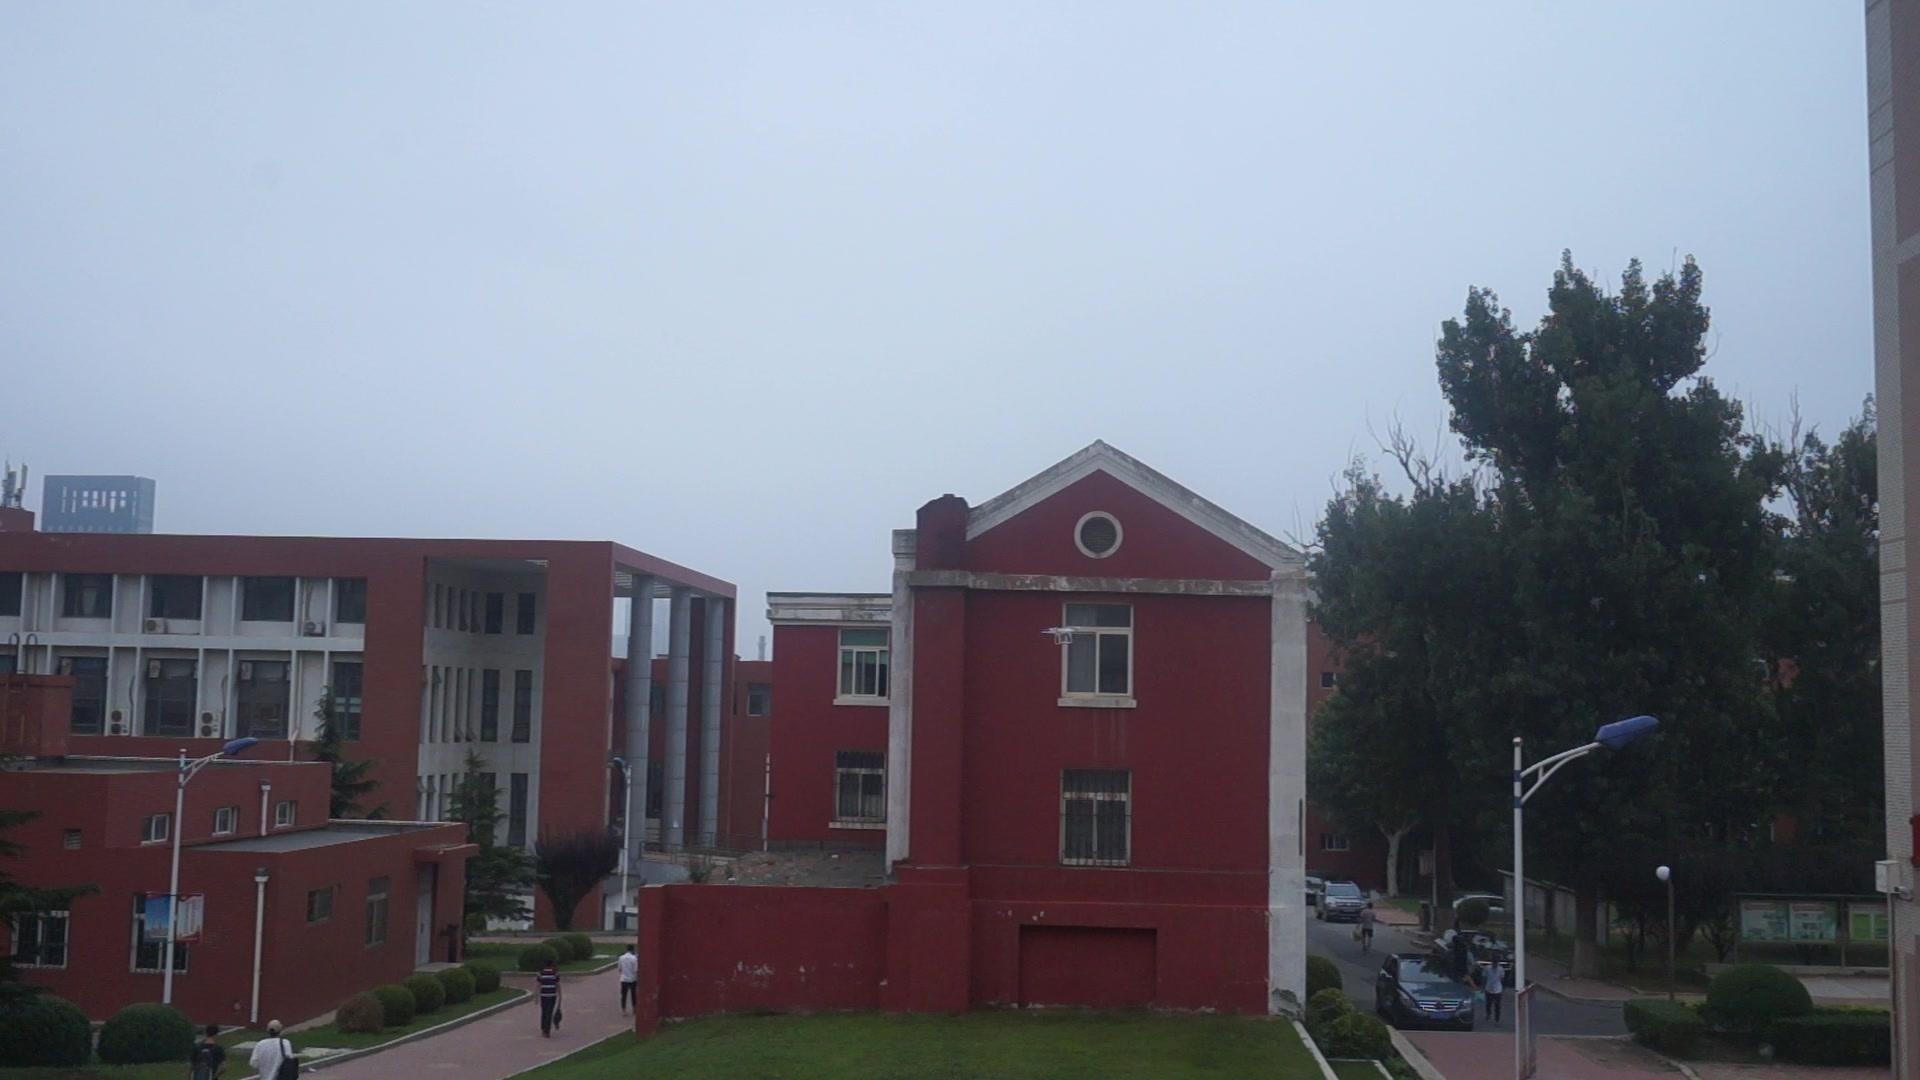UAV: (1043, 626, 1083, 646)
